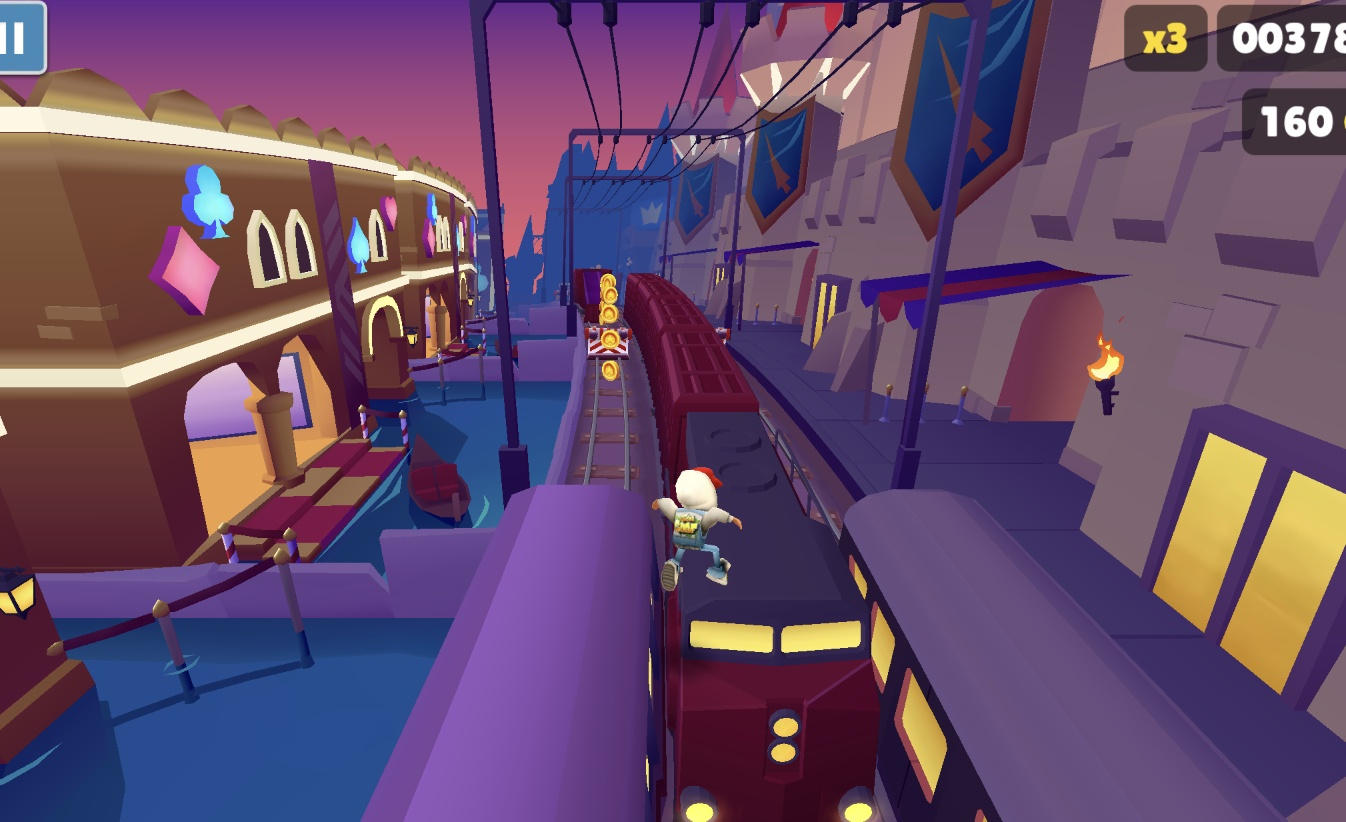ground_barrier: (583, 326, 631, 362), (720, 326, 733, 346)
train: (833, 488, 1346, 822), (361, 485, 654, 822), (658, 411, 882, 822), (624, 271, 762, 510), (577, 268, 610, 327)
